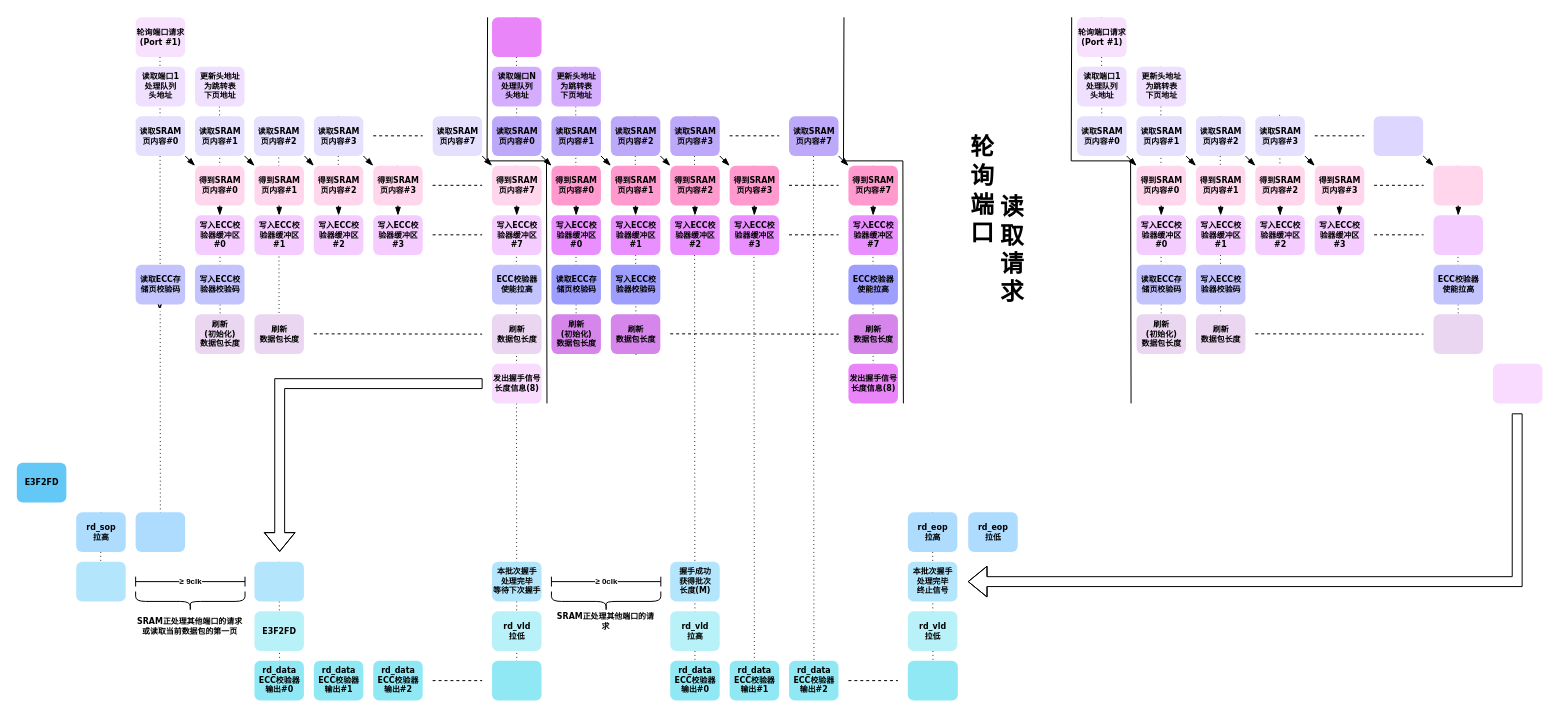
The diagram is 1559 pixels wide and 719 high, and some of its shapes have lost their labels. Each missing label, with the centre of its shape:
rd_data ECC校验器 输出 #(M-1): (x=932, y=680)
rd_data ECC校验器 输出#(N-1): (x=516, y=680)
rd_sop 拉低: (x=160, y=531)
写入ECC校验器缓冲区#k: (x=1458, y=234)
分配调度任务 请求指示码 等待握手: (x=100, y=581)
发出握手信号 长度信息(k) 发出终止信号: (x=1517, y=383)
得到SRAM 页内容#k: (x=1458, y=185)
握手成功 获得批次 长度(N): (x=278, y=581)
数据包结束 长度(1→0): (x=1458, y=333)
读取SRAM 页内容#k: (x=1398, y=135)
轮询端口请求 (Port #N): (x=516, y=36)
